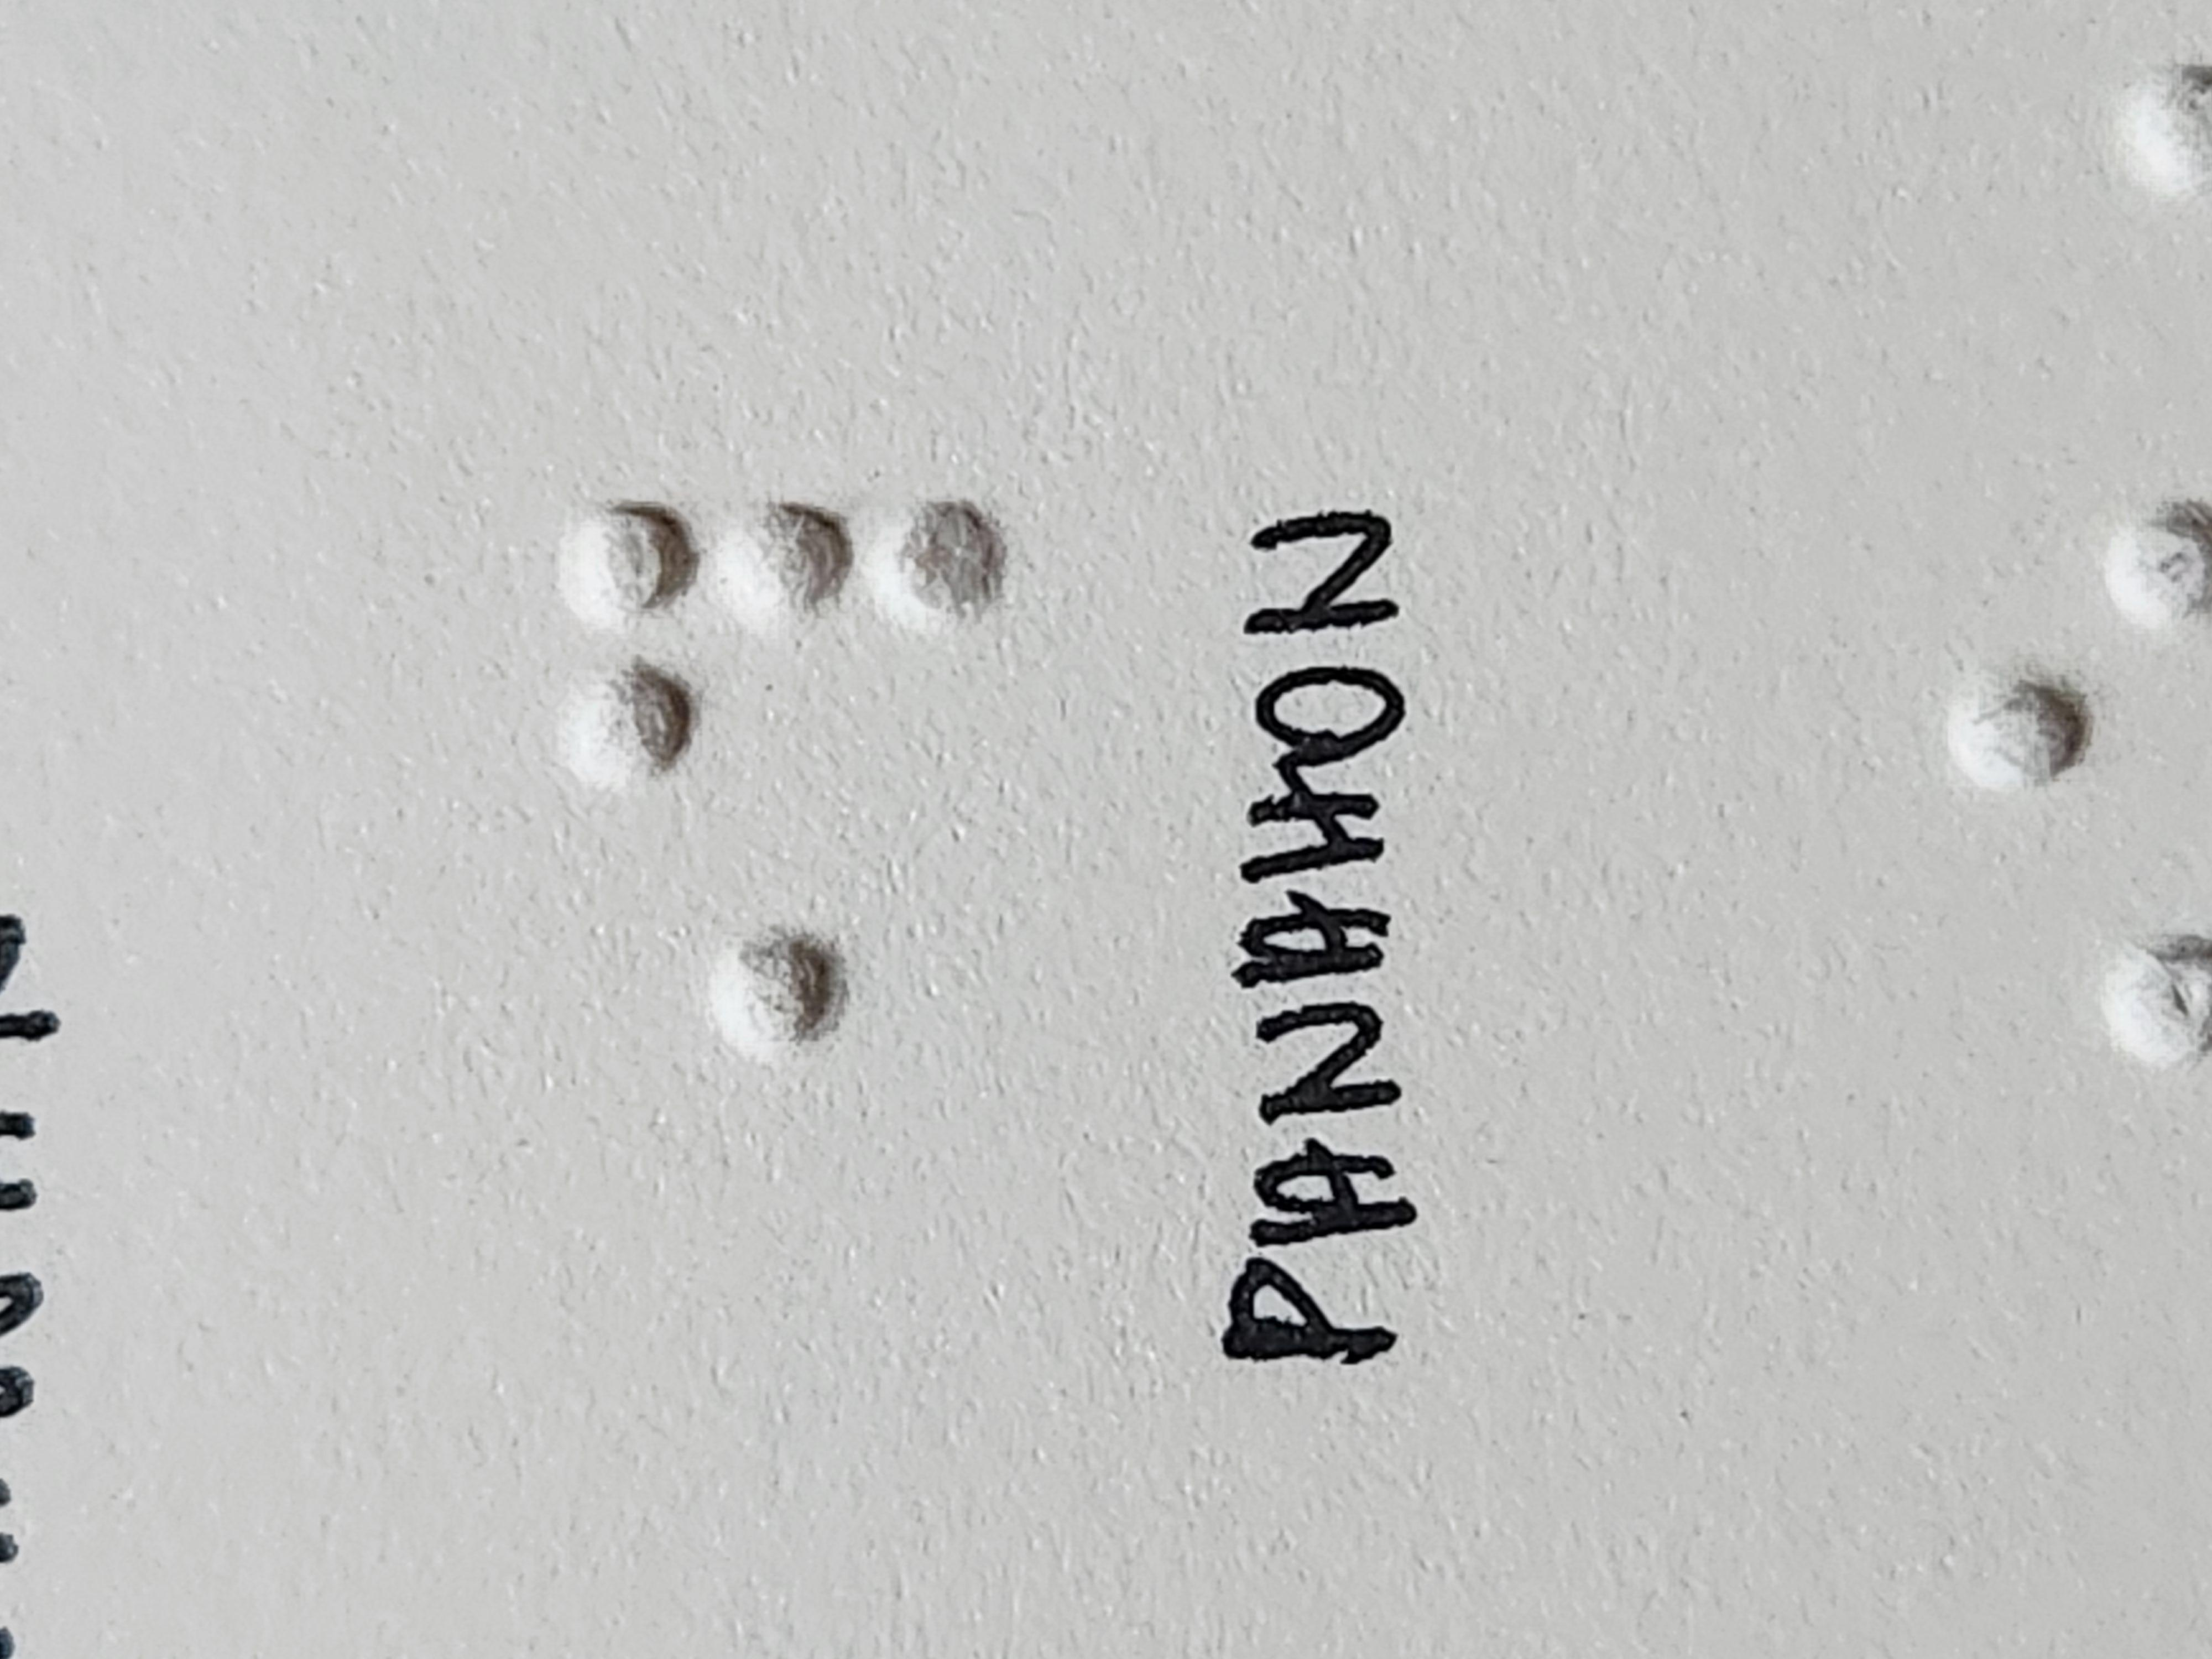dot_5: (580, 415, 974, 749)
two_cell_non_alphabet_panahon: (1151, 415, 1547, 749)
